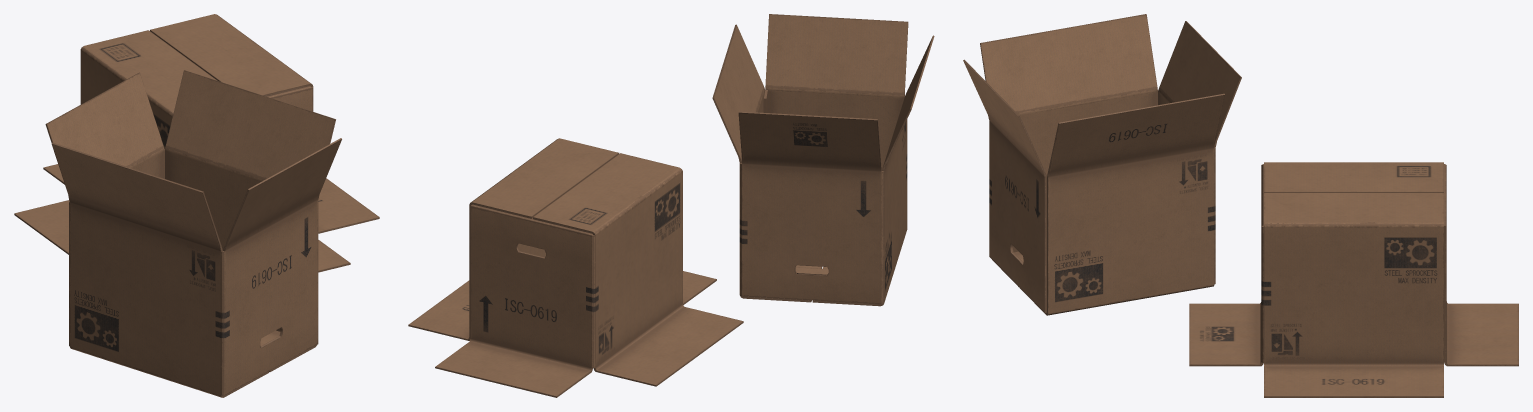
3 views of the same model, side by side, from view 1: azimuth 30°, elevation 25°; view 2: azimuth 150°, elevation 25°; view 3: azimuth 270°, elevation 25° (orthographic). The views are drawn at different scales.
Visible parts, largest first — view 1: boxCorrugated_01_tall, boxCorrugated_01_flat; view 2: boxCorrugated_01_flat, boxCorrugated_01_tall; view 3: boxCorrugated_01_tall, boxCorrugated_01_flat.
Boxes of the visible parts, box(x1,y1,x2,y2) form: boxCorrugated_01_tall: box(45, 70, 341, 397); boxCorrugated_01_flat: box(14, 14, 379, 272); boxCorrugated_01_flat: box(408, 138, 743, 397); boxCorrugated_01_tall: box(712, 14, 934, 306); boxCorrugated_01_tall: box(963, 14, 1241, 315); boxCorrugated_01_flat: box(1189, 162, 1518, 397).
Bounding box in the file's own units: 216 × 115 × 283.
1 material, 1 textured.
